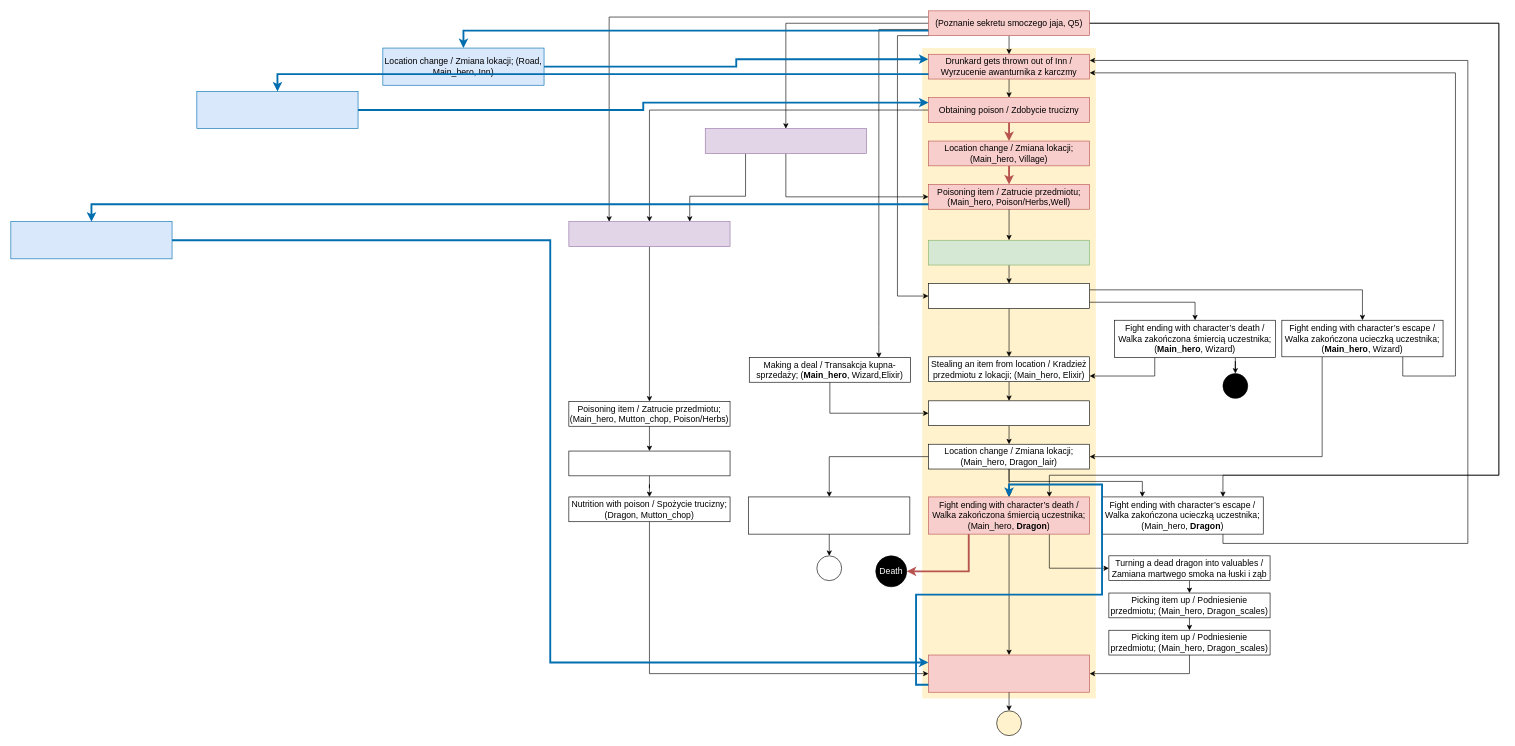
Some shapes in this 1515 by 746 pixel diagram are drawn without their labels. The shapes that lost their labels are listed below. From the top down, each one's box as (x1, y1, x2, y2) in pixels, then its label:
(196, 91, 358, 129): Making a deal / Transakcja kupna-sprzedaży; (Inn, Innkeeper, Main_hero, Sword)
(705, 128, 866, 153): (Zdobycie trujących ziół, Q2)
(10, 221, 172, 259): Location change / Zmiana lokacji; (Forest, Main_hero, Dragons_lair)
(568, 221, 730, 246): (Zdobycie baraniny, Q8)
(928, 240, 1090, 265): Wizard receives a distress call / Bohater wzywa czarodzieja na pomoc
(928, 283, 1090, 308): Location change / Zmiana lokacji; (Main_hero, Wizard_hut)
(928, 400, 1090, 426): Nutrition / Odżywianie; (Main_hero, Elixir)
(568, 450, 730, 476): Dropping item / Odłożenie przedmiotu; (Mutton_chop)
(748, 496, 910, 534): Character’s arrest / Aresztowanie bohatera; (Main_hero, Wizard/Lawyer/Guard )
(928, 654, 1090, 692): Picking item up / Podniesienie przedmiotu; (Dragon_egg)
